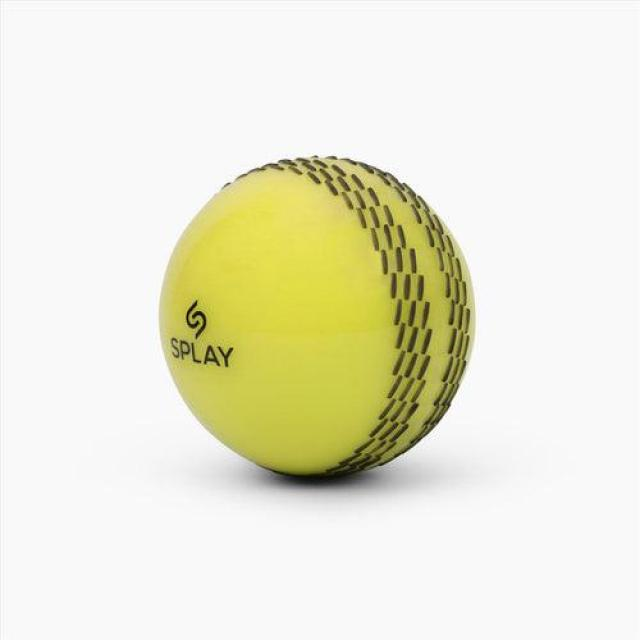ball: (160, 159, 476, 480)
